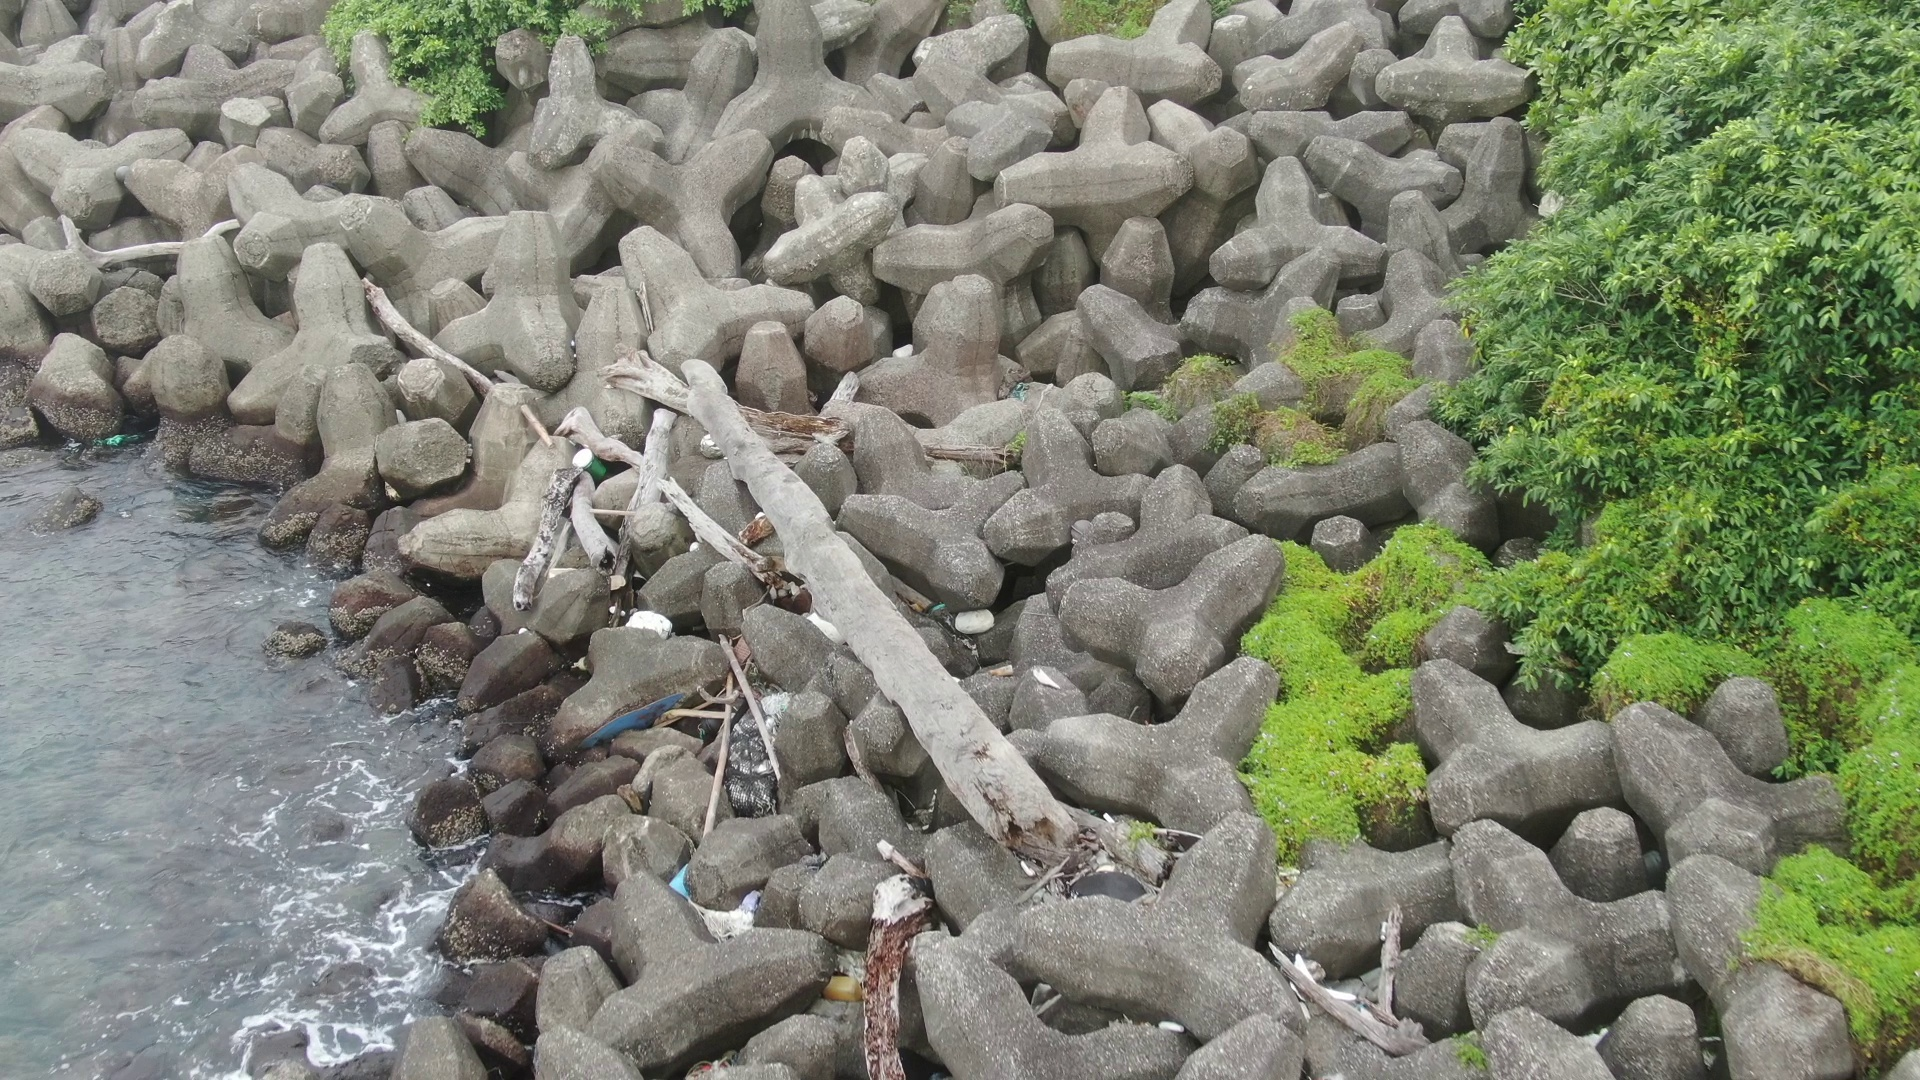garbage: (703, 683, 796, 829), (665, 858, 777, 947), (570, 684, 698, 752), (816, 957, 882, 1022), (945, 599, 992, 649), (800, 599, 847, 647), (564, 443, 609, 487), (621, 608, 675, 642), (100, 417, 141, 448)
